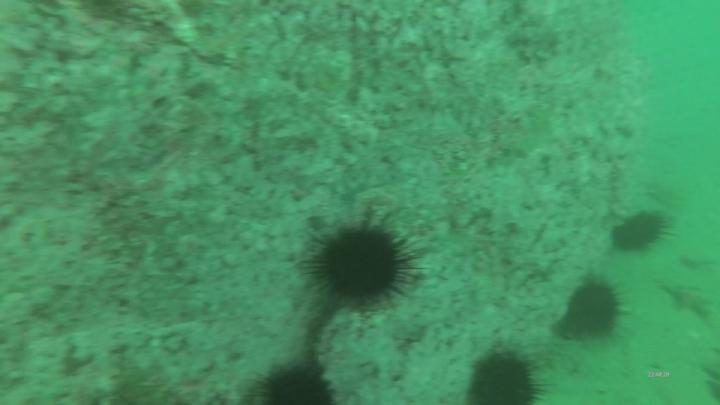echinus: (298, 214, 426, 314), (471, 344, 546, 405), (252, 356, 341, 405), (565, 279, 626, 341), (609, 210, 672, 254)
starfish: (659, 279, 715, 321)
